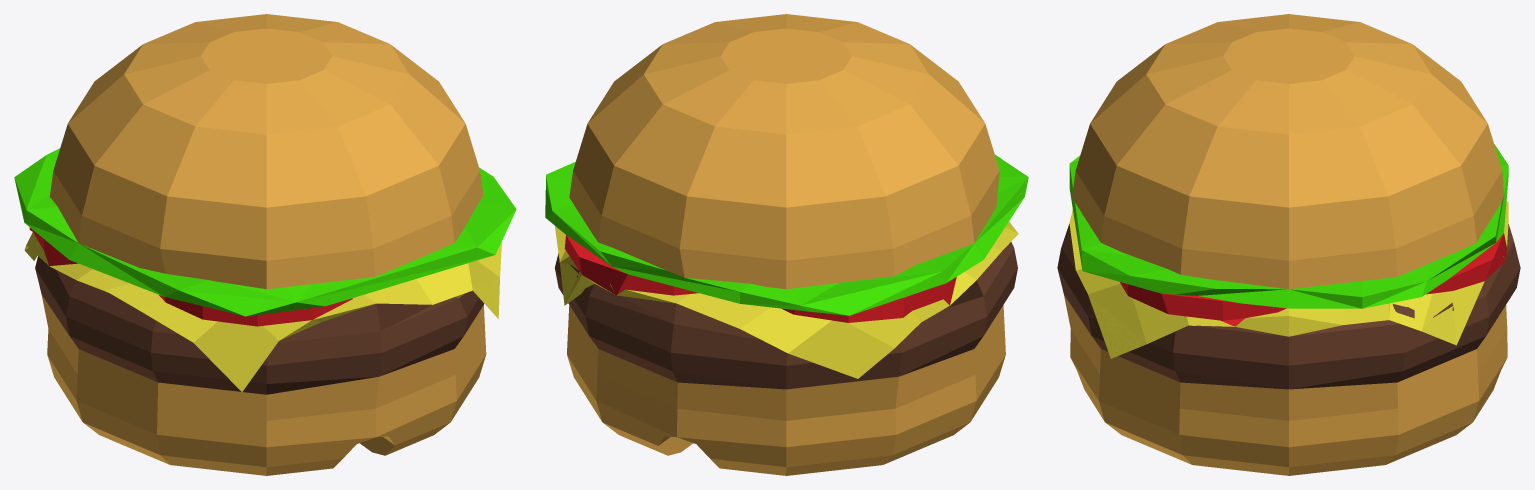
File: Burger.fbx
3 views of the same model, side by side, from view 1: azimuth 30°, elevation 25°; view 2: azimuth 150°, elevation 25°; view 3: azimuth 270°, elevation 25° (orthographic).
Visible parts, largest first — view 1: Cylinder; view 2: Cylinder; view 3: Cylinder.
Part boxes in pixels (x1,y1,x2,y2): Cylinder: (14,14,516,475); Cylinder: (545,14,1028,475); Cylinder: (1057,14,1520,475).
Size of the model in its own units: 74.53 by 60.55 by 73.85.
